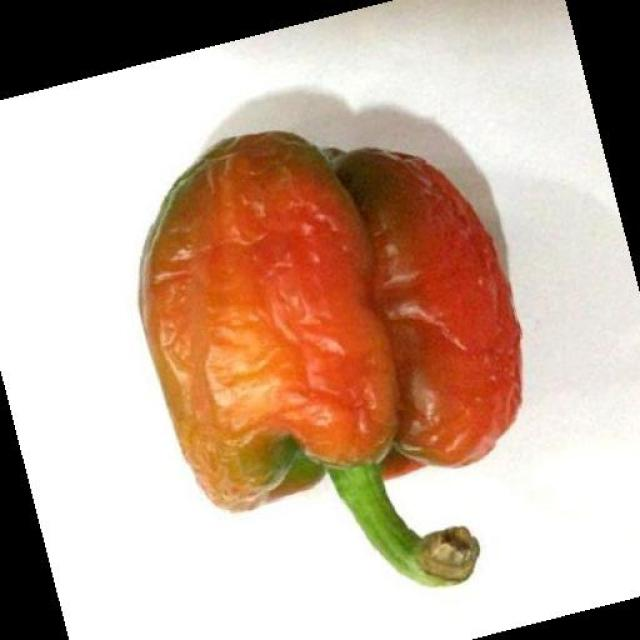Stale_Capsicum: (118, 84, 636, 533)
